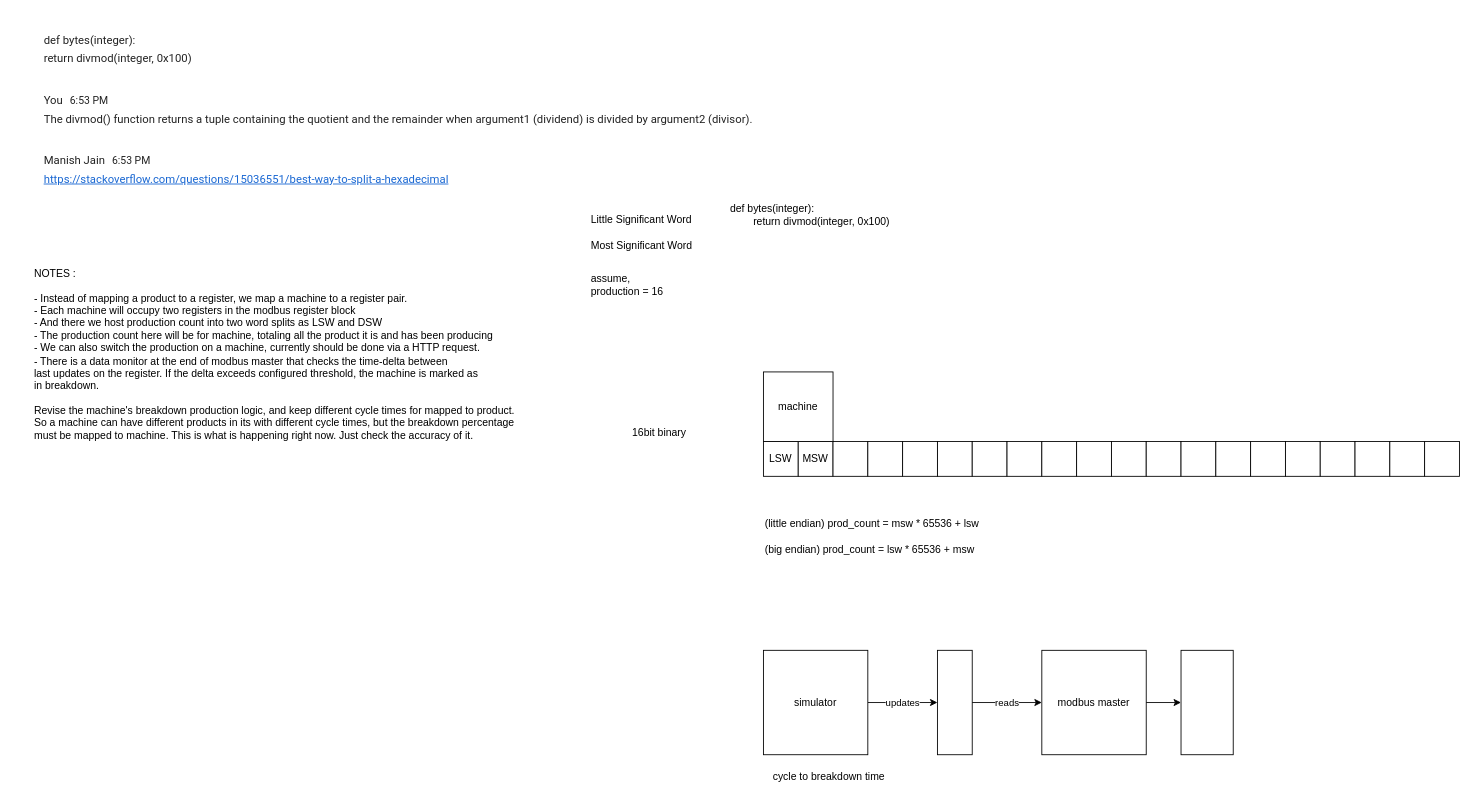
The diagram is 1475 pixels wide and 804 high, and some of its shapes have lost their labels. Each missing label, with the centre of its shape:
"monitor" belongs at point 1206,702.
"register" belongs at point 954,702.
